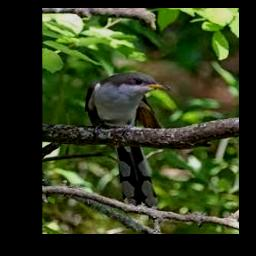Cuckoo: (85, 72, 171, 208)
